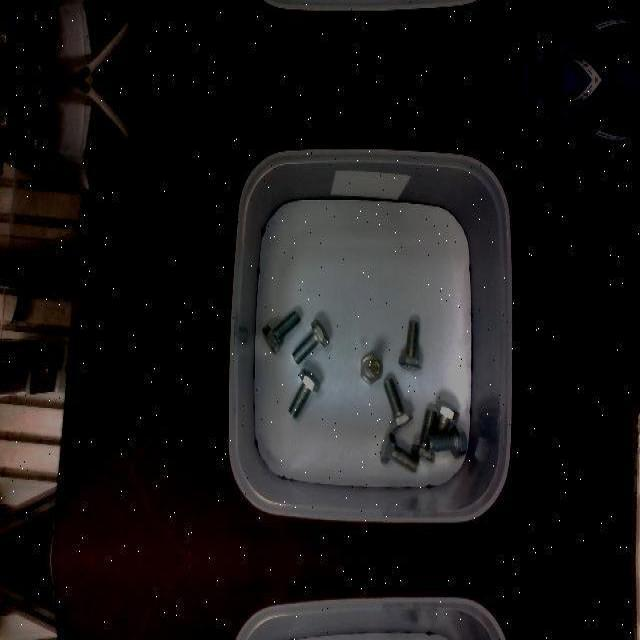screw: (262, 309, 301, 355), (291, 318, 329, 364), (379, 431, 419, 473), (288, 368, 321, 418), (383, 377, 413, 429), (425, 425, 467, 459), (398, 320, 422, 370), (360, 352, 382, 384)
